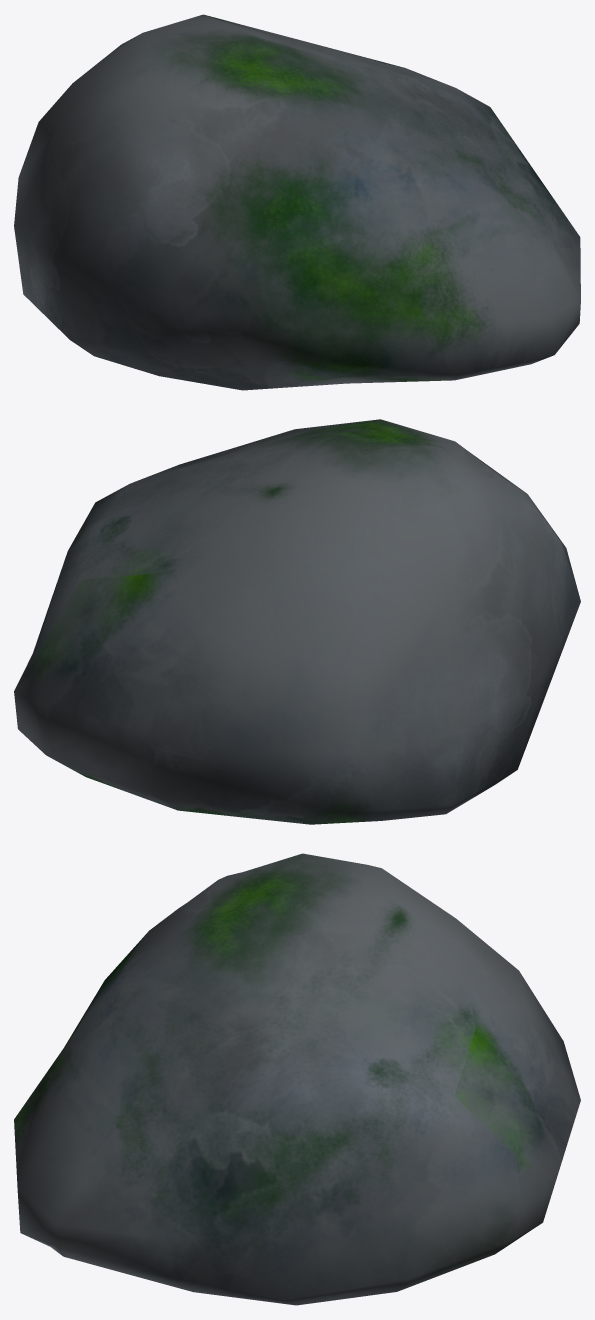
File: rock3.glb
3 views of the same model, one above another, from view 1: azimuth 30°, elevation 25°; view 2: azimuth 150°, elevation 25°; view 3: azimuth 270°, elevation 25° (orthographic). The views are drawn at different scales.
Visible parts, largest first — view 1: Rock3_LP; view 2: Rock3_LP; view 3: Rock3_LP.
Boxes of the visible parts, x1,y1,x2,y2 form: Rock3_LP: [14, 14, 580, 390]; Rock3_LP: [14, 419, 580, 824]; Rock3_LP: [14, 853, 580, 1305].
Size of the model in its own units: 1.54 by 1.03 by 1.65.
1 material, 1 textured.
